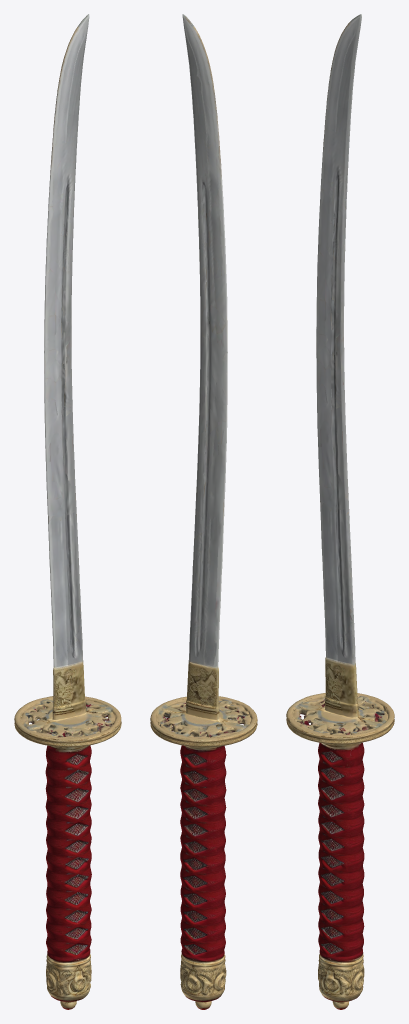
File: weapon_joseon_hwando.glb
3 renders of one model, left to right at view 1: azimuth 30°, elevation 25°; view 2: azimuth 150°, elevation 25°; view 3: azimuth 330°, elevation 25°, orthographic.
Size of the model in its own units: 0.0946 by 0.9599 by 0.0942.
1 material, 1 textured.
